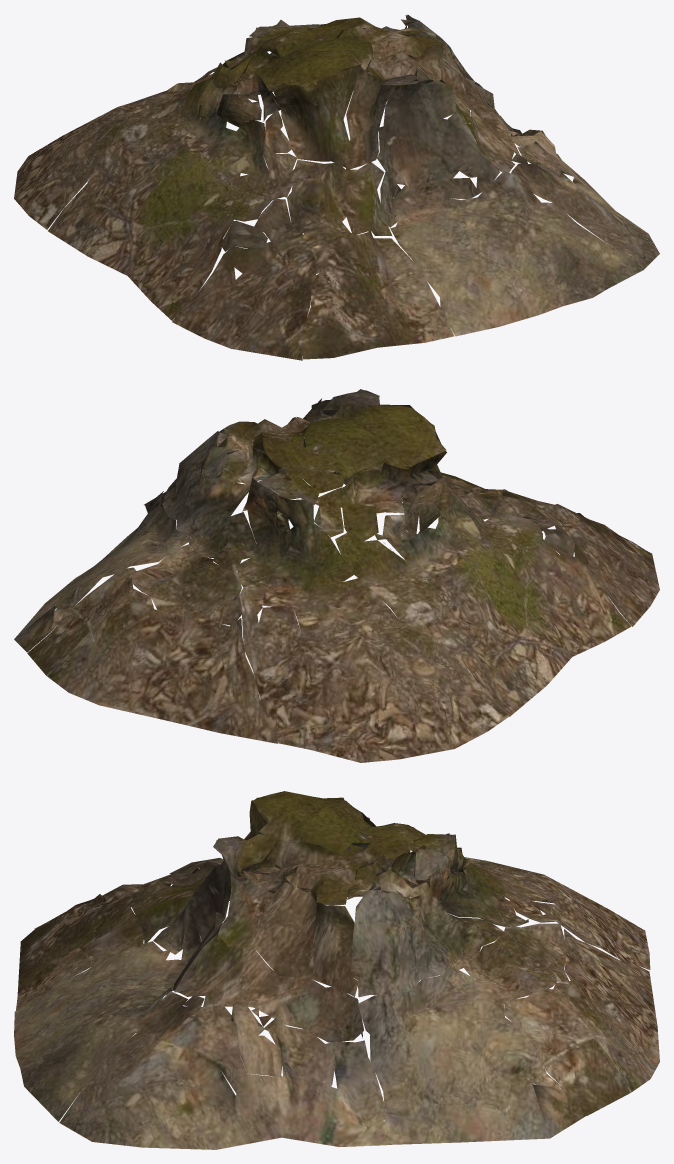
File: tree_stump_01.glb
3 views of the same model, one above another, from view 1: azimuth 30°, elevation 25°; view 2: azimuth 150°, elevation 25°; view 3: azimuth 270°, elevation 25° (orthographic). The views are drawn at different scales.
Parts seen in each view (by area): view 1: tree_stump_01; view 2: tree_stump_01; view 3: tree_stump_01.
Boxes of the visible parts, x1,y1,x2,y2 form: tree_stump_01: [14, 14, 659, 360]; tree_stump_01: [14, 389, 659, 762]; tree_stump_01: [14, 791, 659, 1149].
Size of the model in its own units: 1.42 by 0.5736 by 1.59.
1 material, 1 textured.
